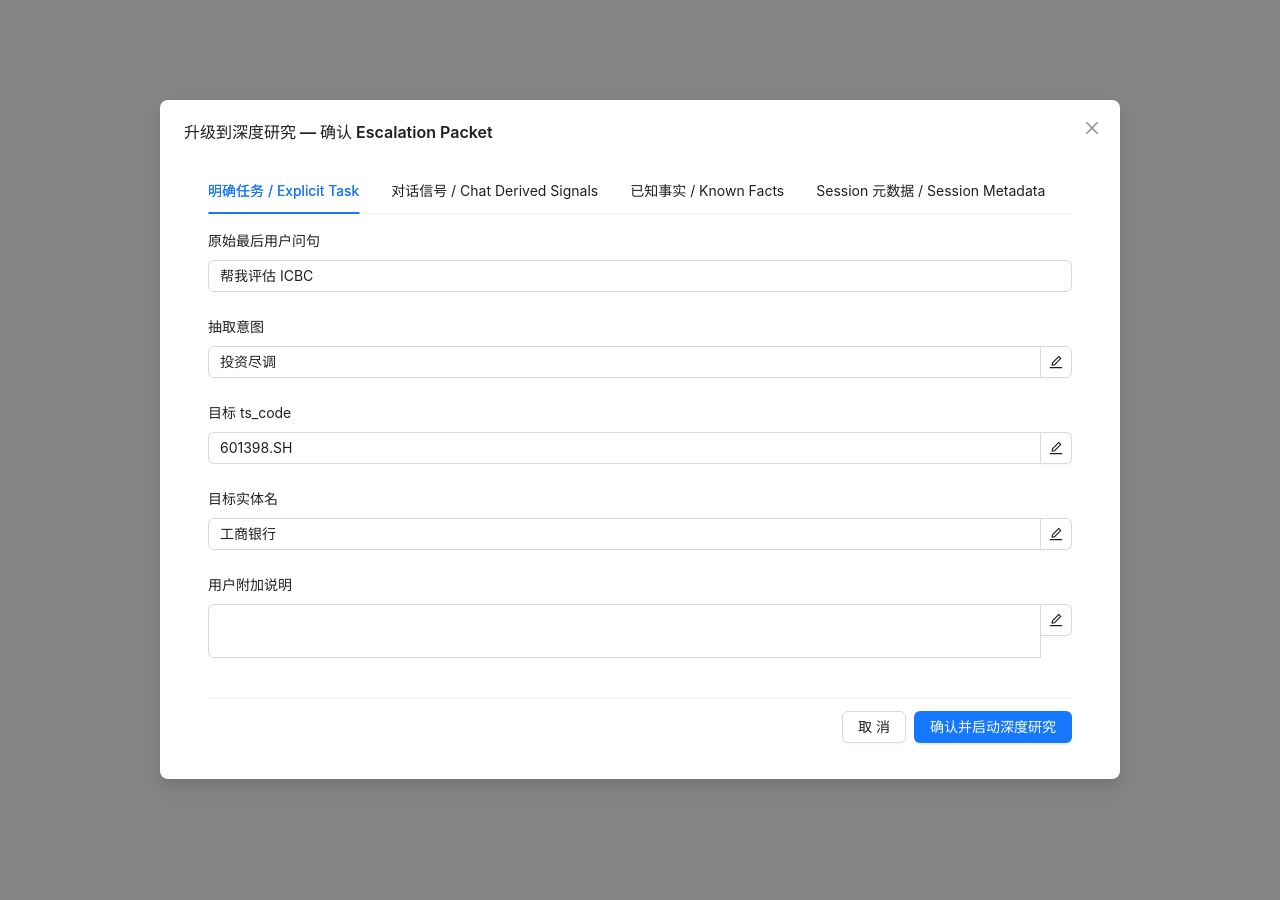
Test: <EscalationConfirmDialog> ChatDerivedSignals + SessionMetadata › SessionMetadata form shows turn_count + history_summary read-only
Step 1. Click the tab "Session 元数据 / Session Metadata" → (931, 191), box x1=816 y1=180 x2=1045 y2=202
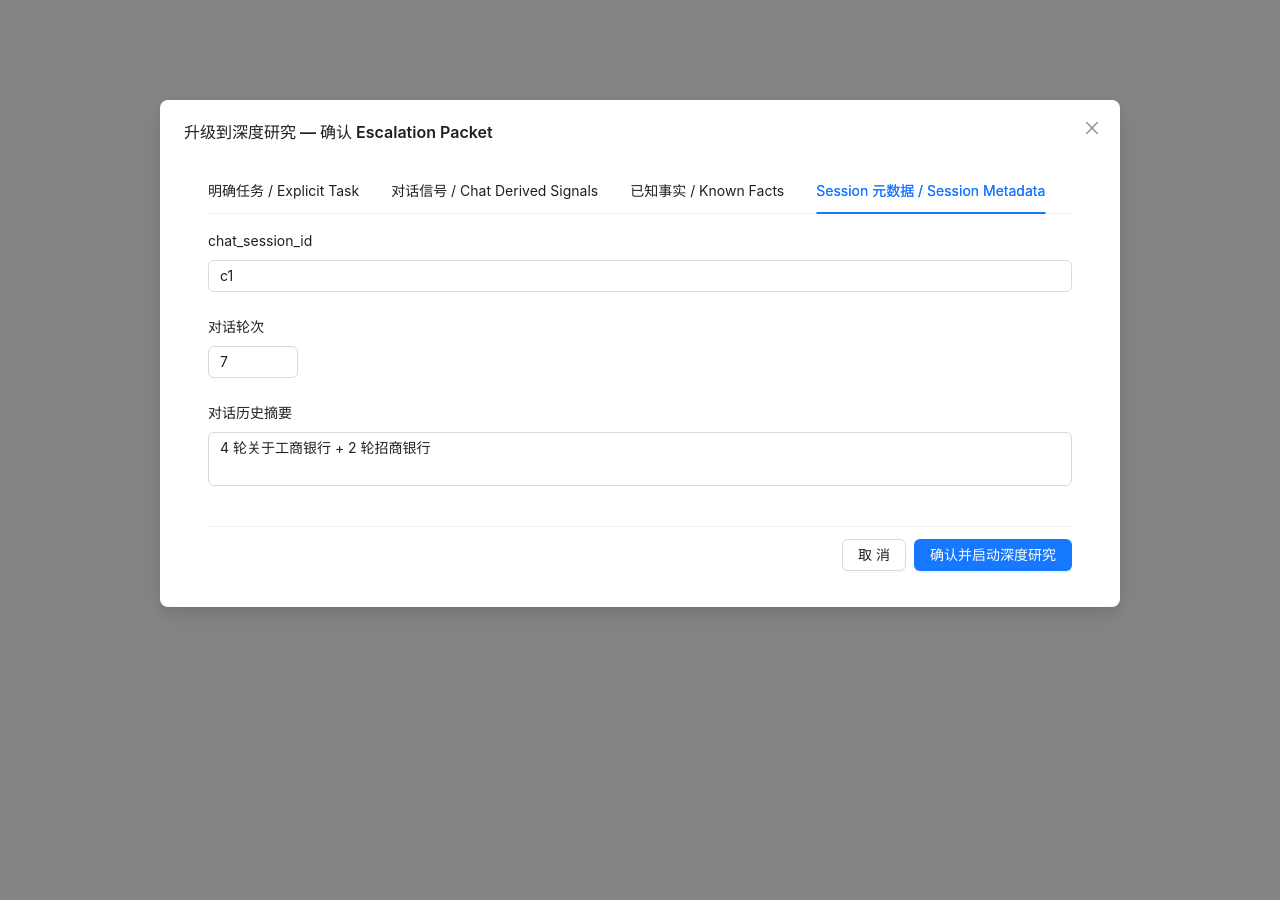
Check: the text box "4 轮关于工商银行" is shown, box x1=208 y1=432 x2=1072 y2=486
